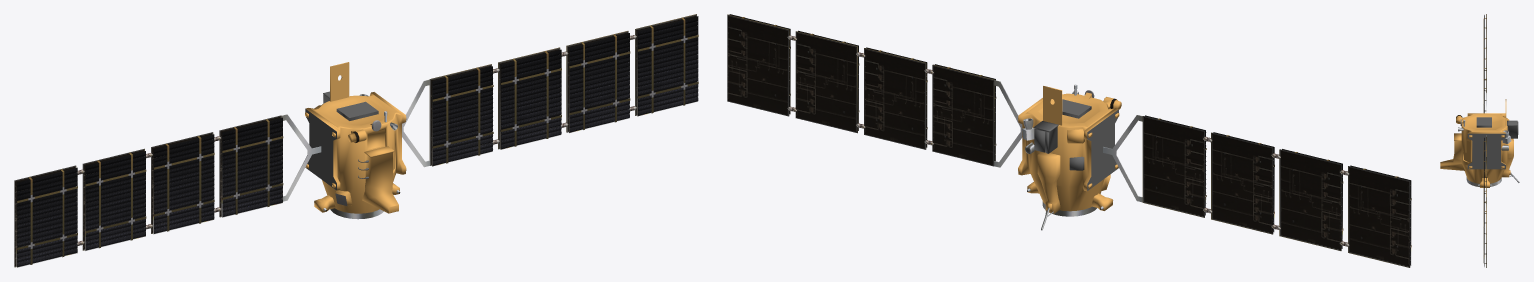
The model's file is space.glb.
The picture shows the model from 3 angles, left to right: view 1: azimuth 30°, elevation 25°; view 2: azimuth 150°, elevation 25°; view 3: azimuth 270°, elevation 25°; orthographic projection. The views are drawn at different scales.
Parts seen in each view (by area): view 1: shiny_panel, tex_01, foil_gold, black_krinkle, foil_silver; view 2: tex_01, foil_gold, black_krinkle, foil_silver, shiny_panel; view 3: foil_gold, black_krinkle, tex_01, foil_silver, shiny_panel.
Part boxes in pixels (<box>): shiny_panel: <box>17,17,698,267</box>; tex_01: <box>14,14,698,267</box>; foil_gold: <box>305,62,406,213</box>; black_krinkle: <box>305,109,378,190</box>; foil_silver: <box>323,91,377,178</box>; tex_01: <box>727,14,1411,267</box>; foil_gold: <box>1018,86,1121,213</box>; black_krinkle: <box>1062,106,1118,190</box>; foil_silver: <box>1033,99,1090,170</box>; shiny_panel: <box>730,14,1410,265</box>; foil_gold: <box>1440,99,1513,187</box>; black_krinkle: <box>1467,125,1505,169</box>; tex_01: <box>1456,14,1519,267</box>; foil_silver: <box>1476,117,1518,138</box>; shiny_panel: <box>1484,15,1484,266</box>.
Size of the model in its own units: 11.8 by 2.22 by 1.96.
3 materials, 1 textured.
